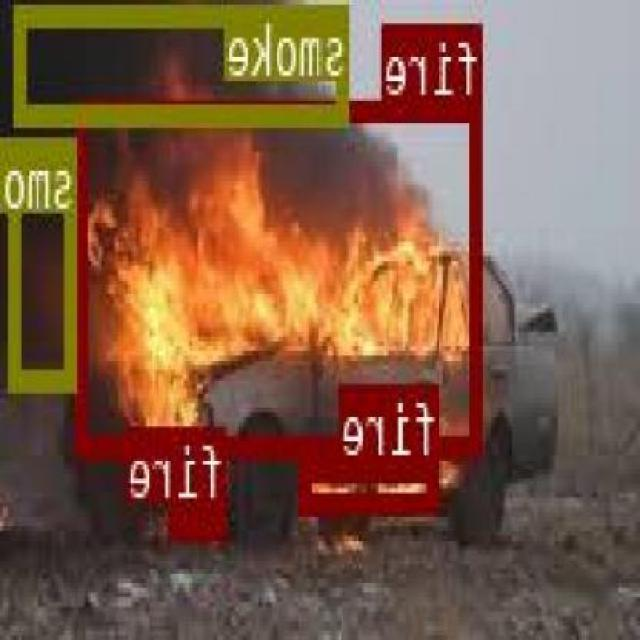Fire: (79, 96, 484, 453), (302, 458, 441, 510), (171, 502, 227, 535)
Smoke: (17, 3, 350, 122), (13, 134, 78, 388)
